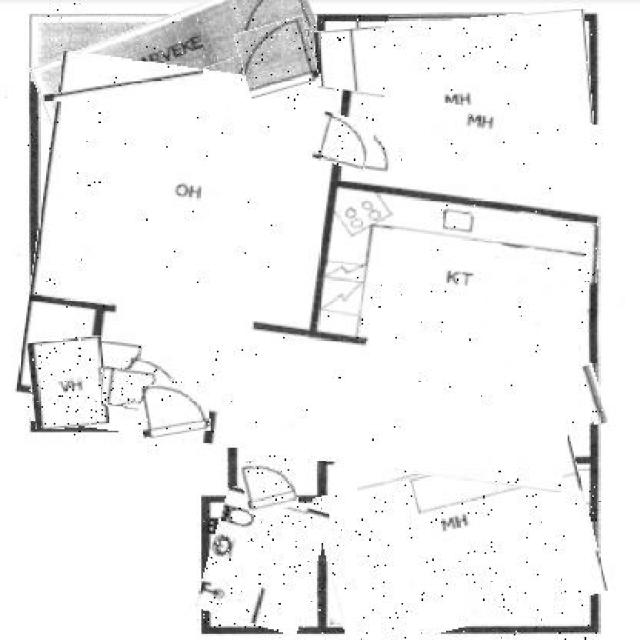door: (238, 18, 317, 100), (137, 378, 209, 438), (315, 114, 374, 168), (241, 457, 297, 512), (102, 368, 160, 406)
window: (43, 76, 205, 96), (582, 364, 606, 424), (584, 225, 598, 283)
zone: (24, 70, 598, 476), (320, 449, 600, 640), (317, 15, 594, 182), (29, 0, 316, 102), (203, 492, 323, 631), (31, 337, 108, 428)
